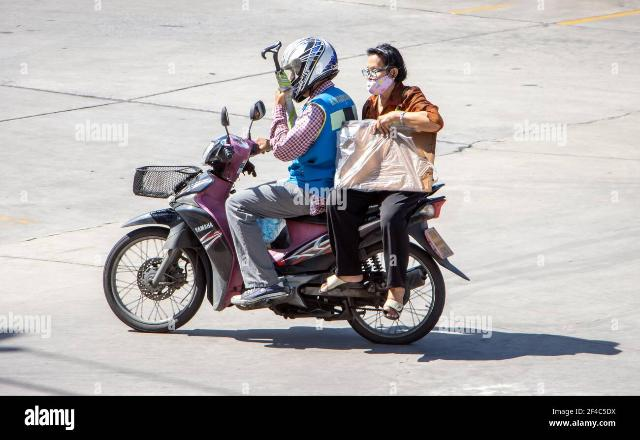helm: (273, 40, 342, 105)
motor: (104, 101, 470, 346)
non-helm: (365, 44, 408, 92)
